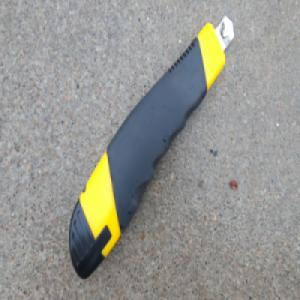Cutter: (67, 11, 235, 280)
